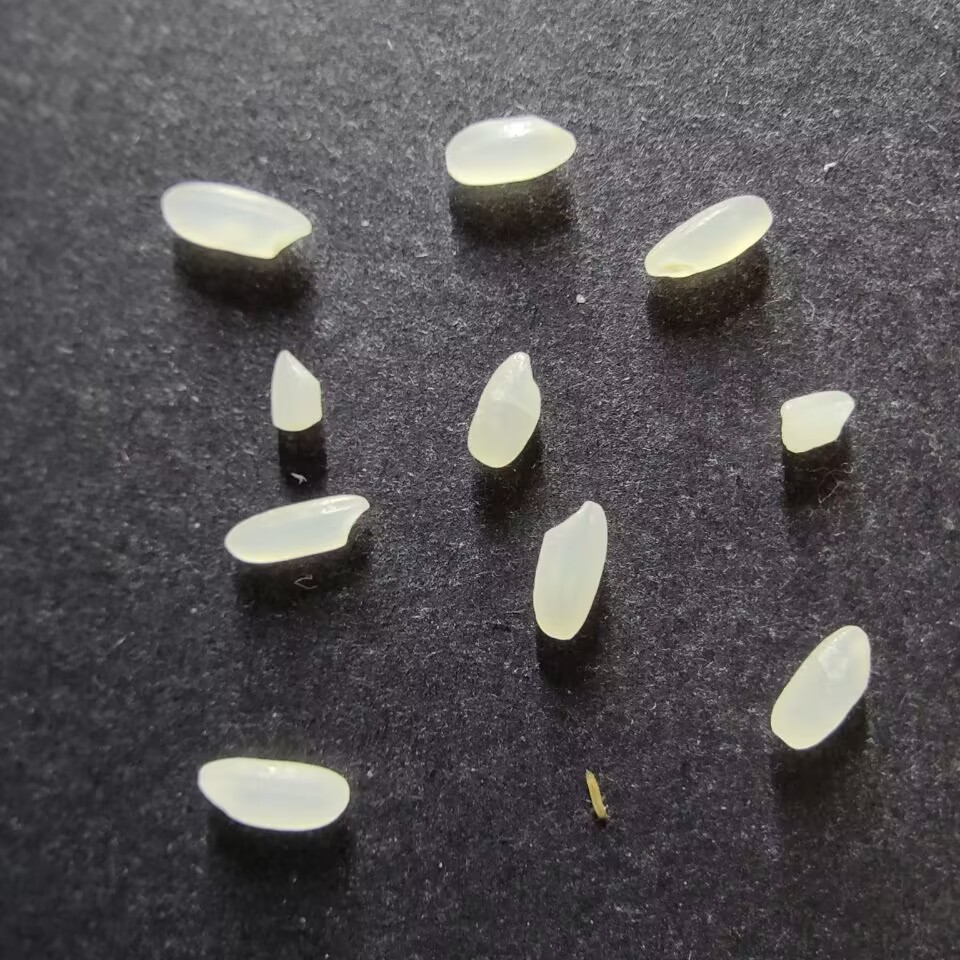broken: (779, 390, 858, 453), (269, 349, 323, 431)
others: (582, 765, 612, 824)
rice: (769, 623, 872, 751), (160, 181, 311, 259), (196, 757, 351, 831), (643, 194, 773, 279), (531, 499, 608, 641), (223, 492, 369, 564), (444, 115, 578, 185), (465, 351, 543, 468)
